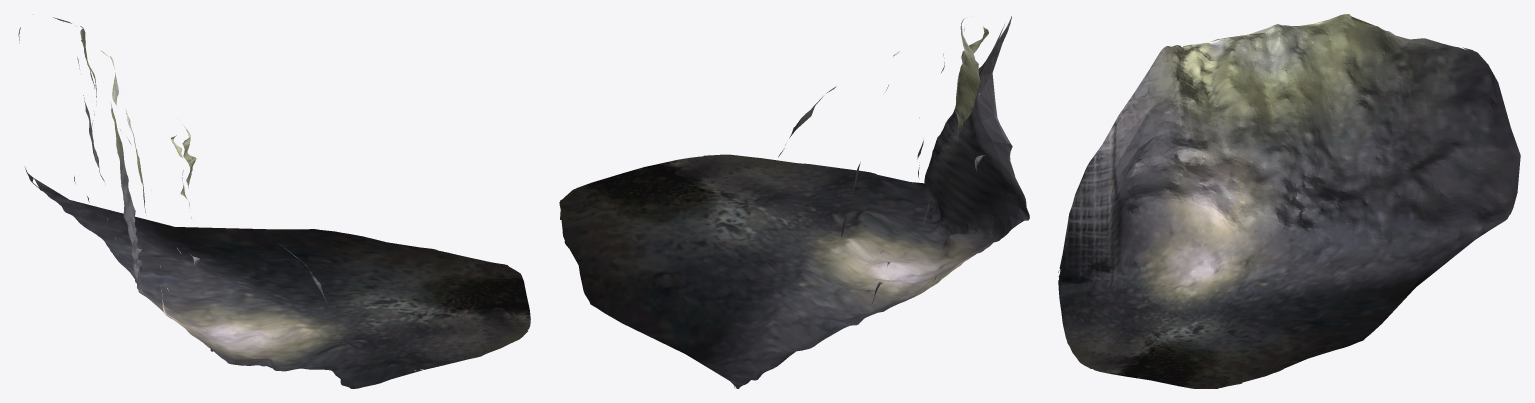
Rendered from Lff return.glb.
3 renders of one model, left to right at view 1: azimuth 30°, elevation 25°; view 2: azimuth 150°, elevation 25°; view 3: azimuth 270°, elevation 25°, orthographic. The views are drawn at different scales.
Visible parts, largest first — view 1: mesh; view 2: mesh; view 3: mesh.
Part boxes in pixels (left/top/right/bottom): mesh: left=18, top=17, right=530, bottom=388; mesh: left=559, top=16, right=1029, bottom=388; mesh: left=1058, top=14, right=1520, bottom=388.
Size of the model in its own units: 2.62 by 1.8 by 3.31.
1 material, 1 textured.
